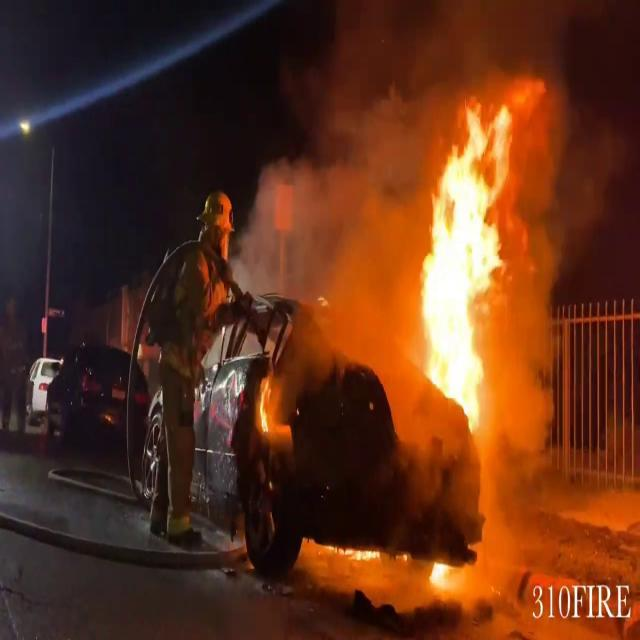Fire: (403, 76, 573, 433)
Smoke: (242, 2, 440, 374)
